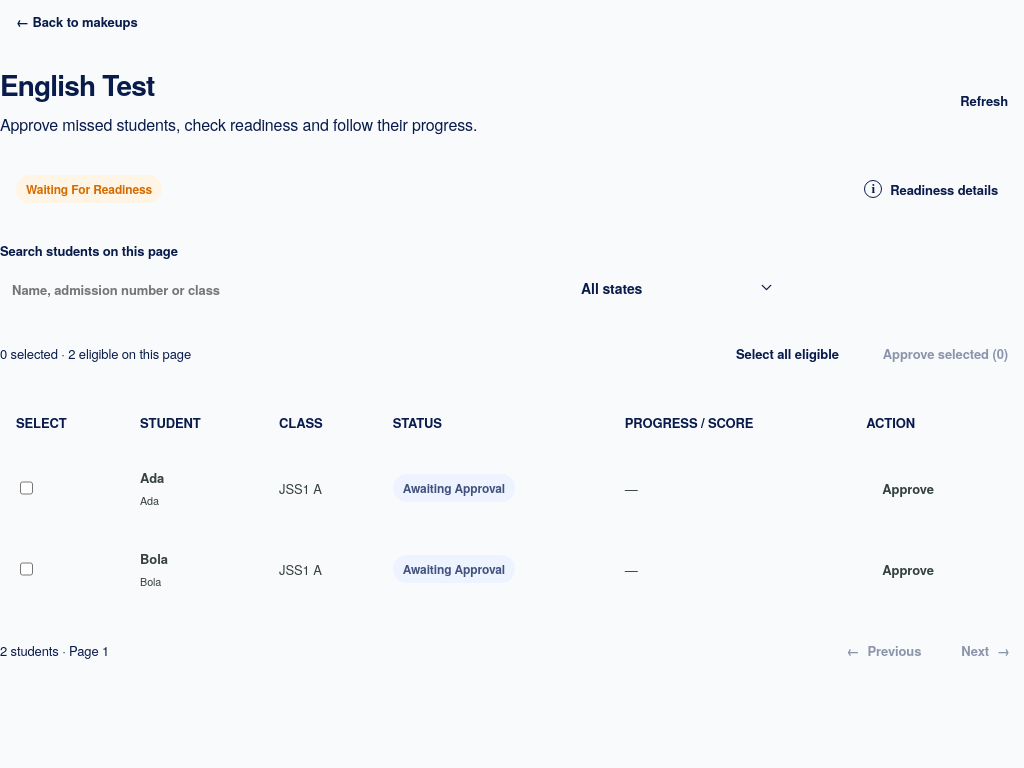
Test: reports partial approvals and clears bulk mode instead of reporting total success
Expected: the checkbox named "Select Ada" is shown, left=20, top=467, right=33, bottom=509
Click the button "Select all eligible" at (787, 354), box left=720, top=333, right=855, bottom=375
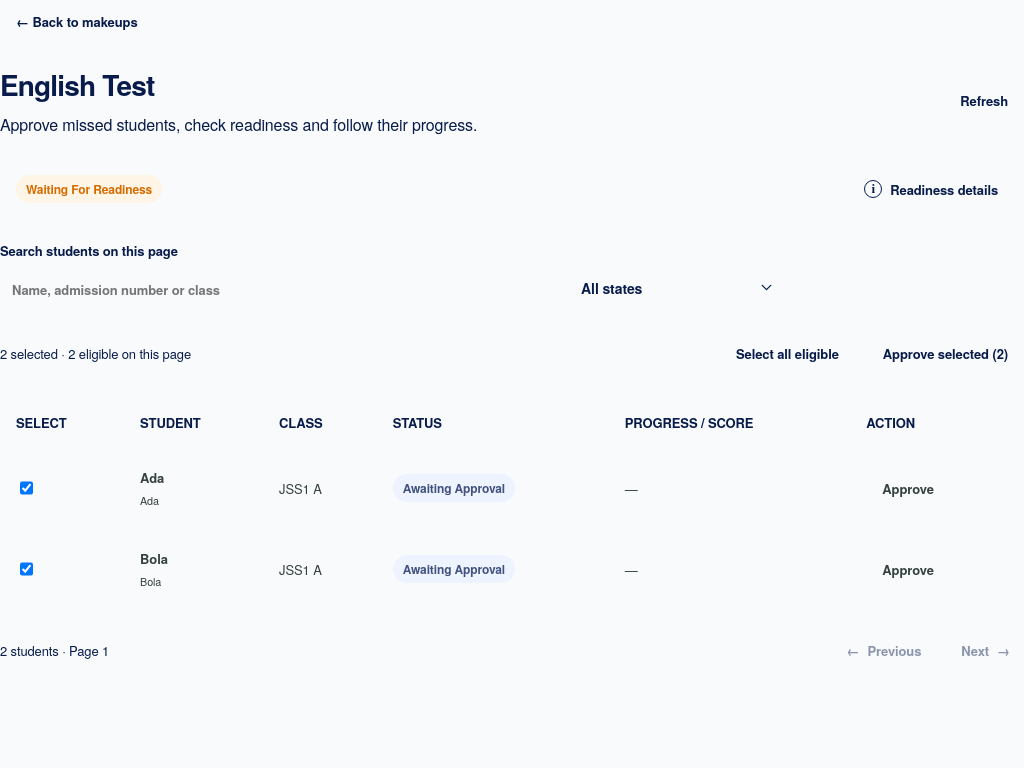
Click the button "Approve selected (2)" at (945, 354), box left=867, top=333, right=1023, bottom=375
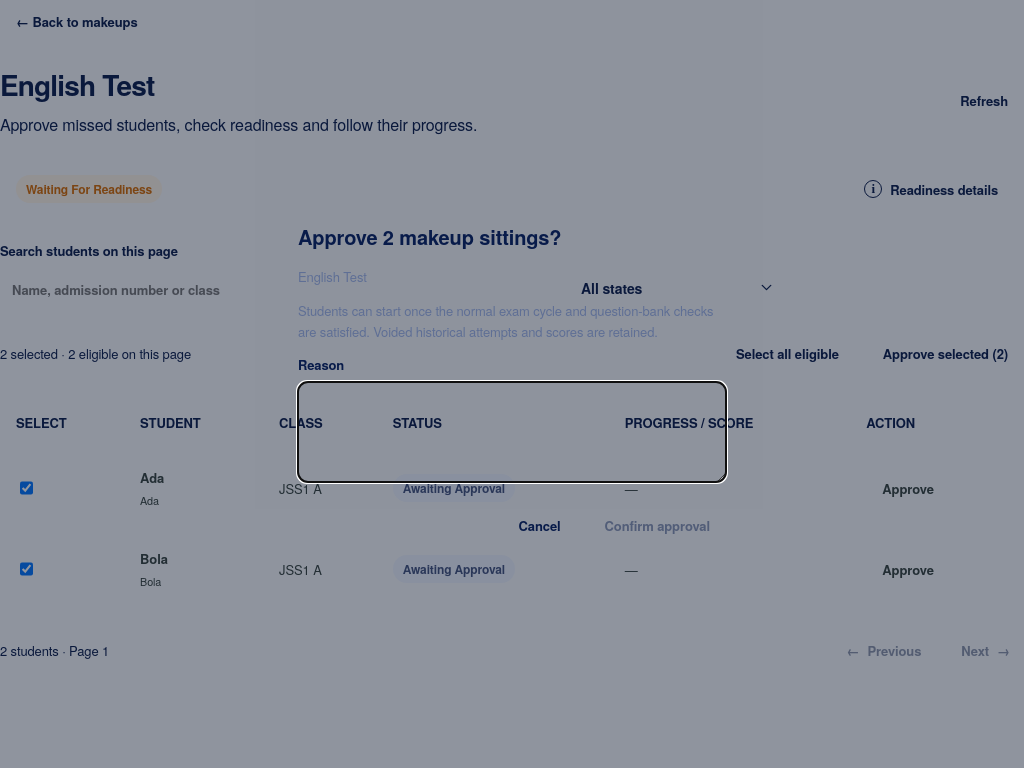
Type "Absent" into the text box labelled "Reason" at (512, 432), box left=298, top=382, right=726, bottom=482
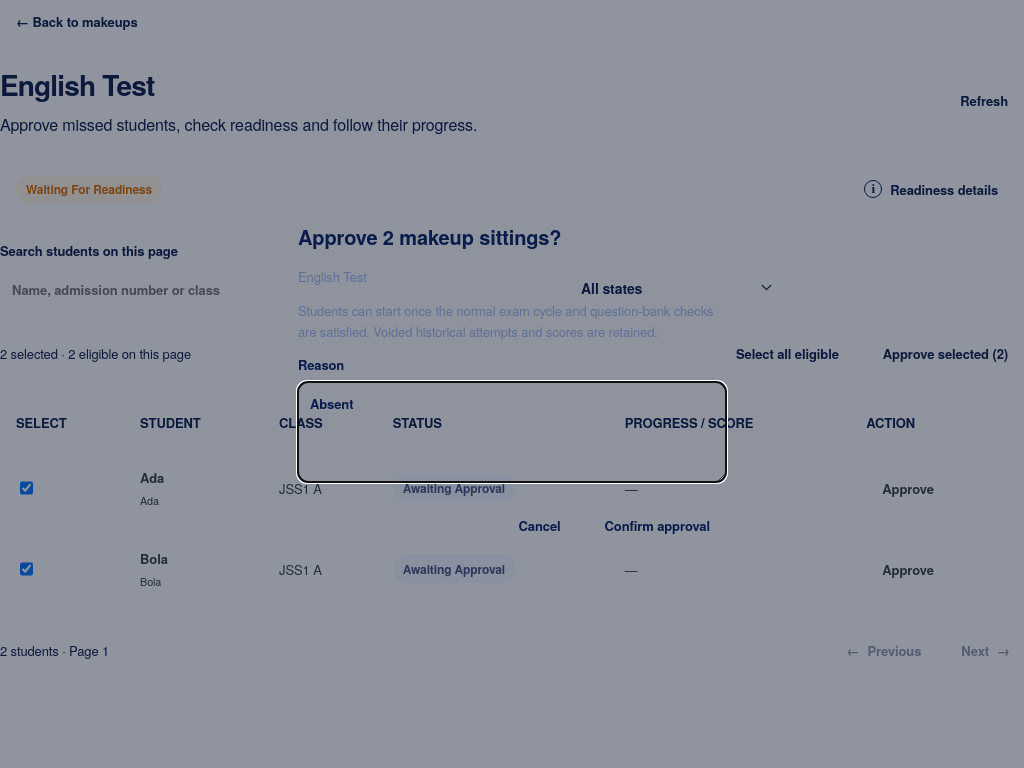
Click the button "Confirm approval" at (657, 526), box left=588, top=504, right=726, bottom=546
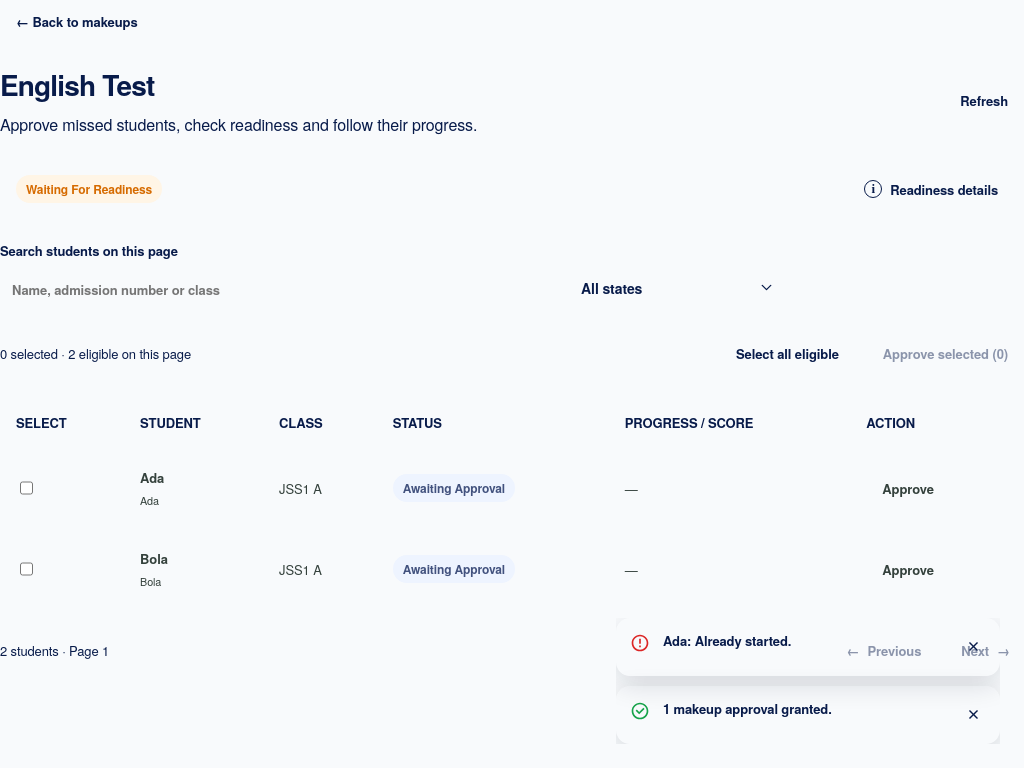
Now the text "Ada: Already started." is shown, box left=663, top=631, right=791, bottom=650
Now the text "1 makeup approval granted." is shown, box left=663, top=699, right=832, bottom=718
